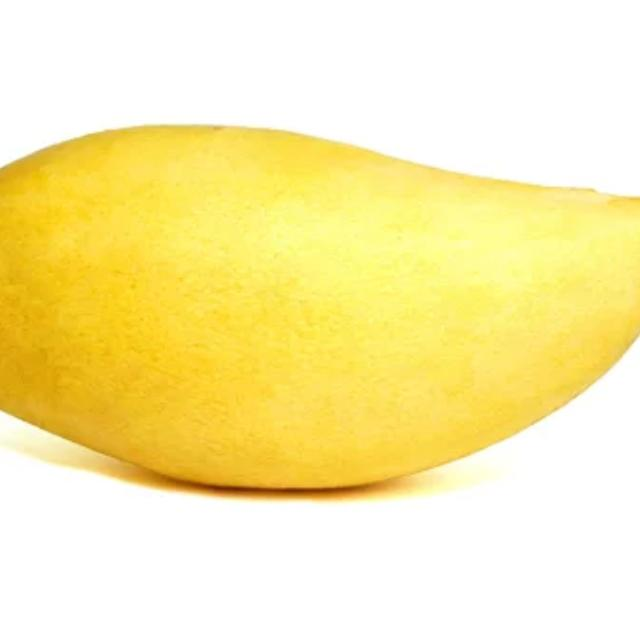mango: (0, 117, 640, 491)
